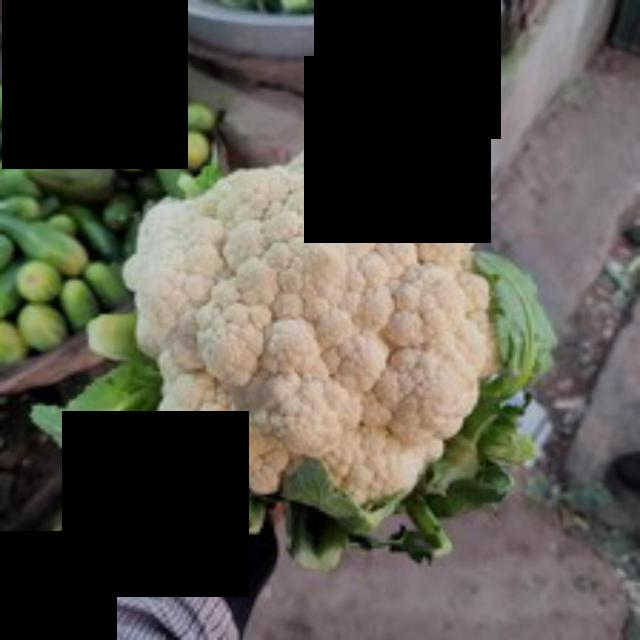cauliflower: (109, 130, 535, 536)
